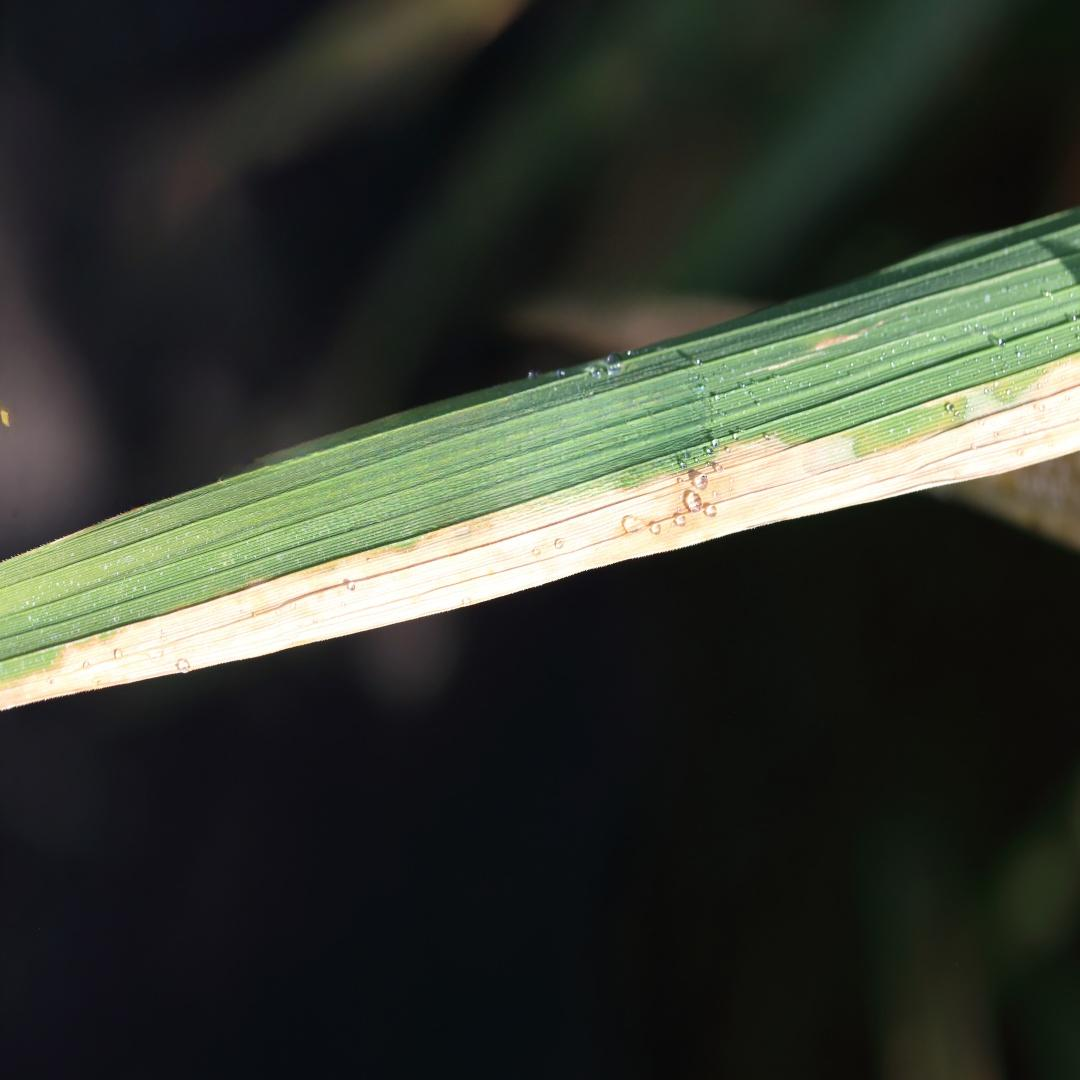BLB: (0, 353, 1078, 707)
LEAF: (0, 210, 1079, 708)
